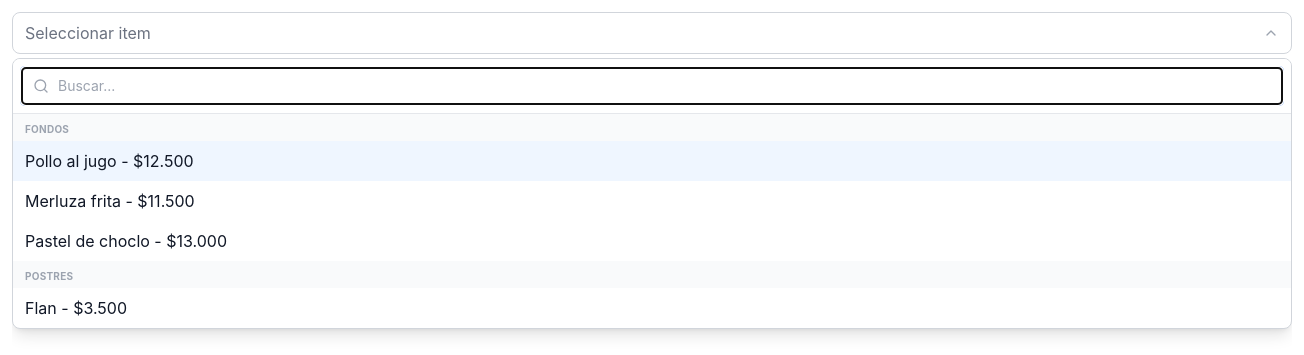
Test case: AgregadorDeItems — el buscador › busca sin tildes y por palabras en desorden
The image size is (1304, 355).
Type "choclo pastel" into the field with placeholder "Buscar...". click: (652, 86)
box: [21, 67, 1283, 105]
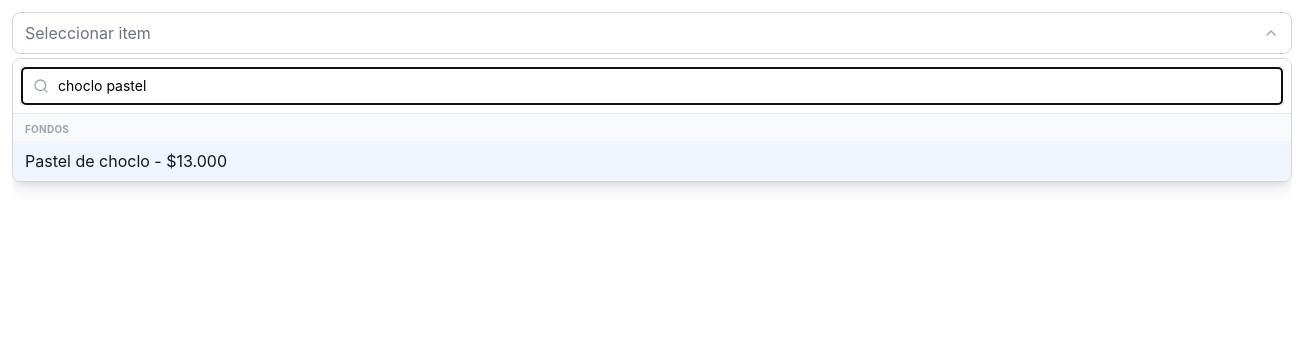
Expected: the button "Pastel de choclo - $13.000" is shown, [13, 141, 1291, 181]
Now the button "Merluza" is gone
